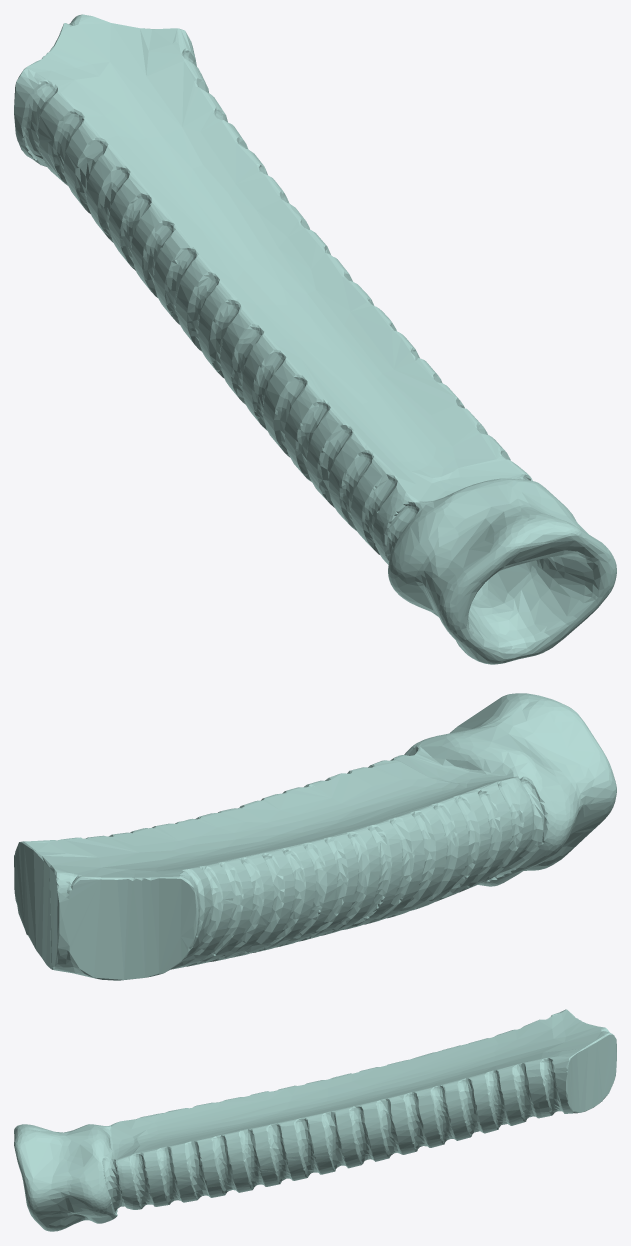
Rendered from trachee.glb.
3 renders of one model, top to bottom at view 1: azimuth 30°, elevation 25°; view 2: azimuth 150°, elevation 25°; view 3: azimuth 270°, elevation 25°, orthographic. The views are drawn at different scales.
Parts seen in each view (by area): view 1: FMA7394.stl; view 2: FMA7394.stl; view 3: FMA7394.stl.
Part boxes in pixels (<box>): FMA7394.stl: <box>14,14,616,664</box>; FMA7394.stl: <box>14,693,616,980</box>; FMA7394.stl: <box>14,1009,616,1231</box>.
Size of the model in its own units: 0.404 by 0.6594 by 1.84.
